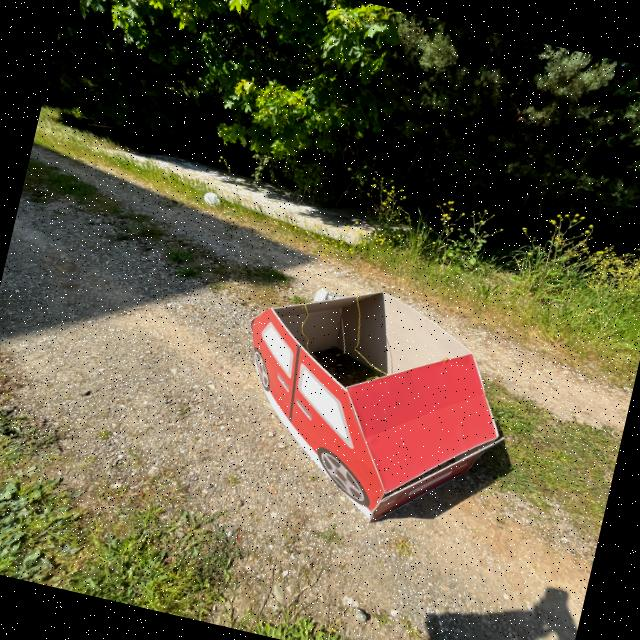red_car: (199, 255, 546, 567)
